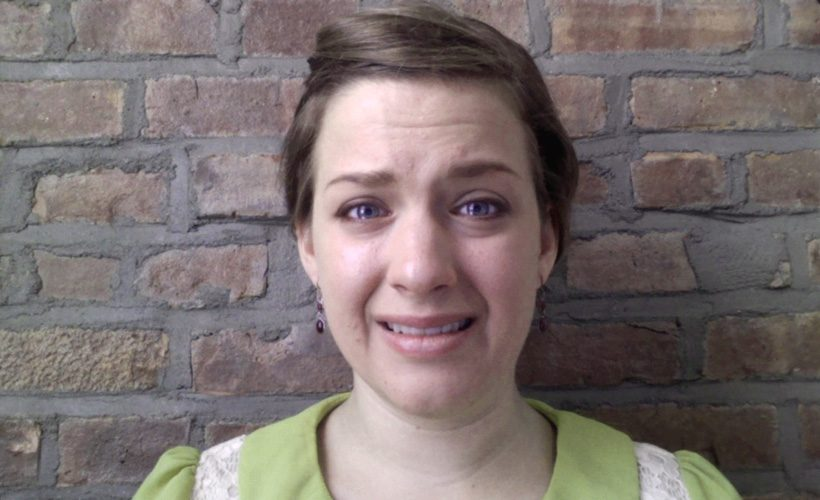sad: (306, 83, 535, 418)
